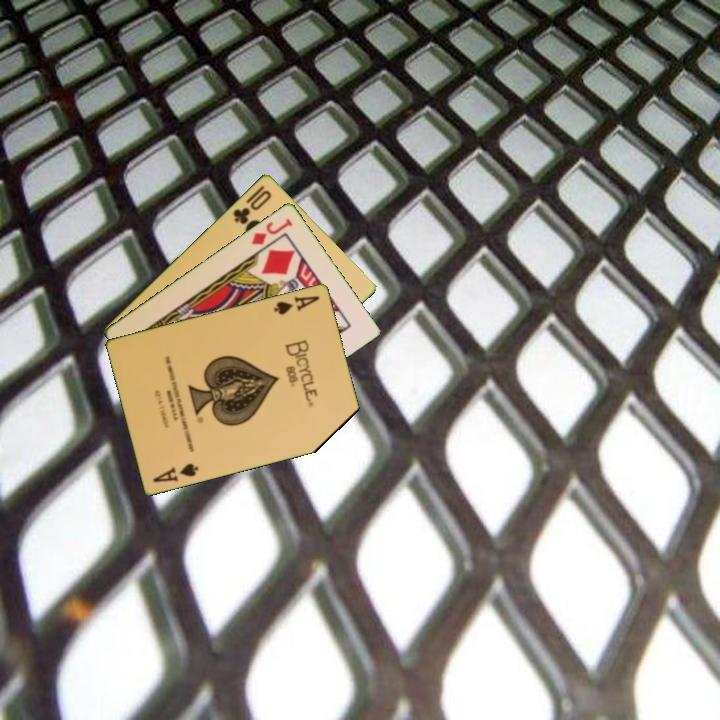10c: (230, 181, 274, 227)
As: (150, 459, 201, 485), (270, 292, 322, 317)
Jd: (248, 214, 295, 248)
